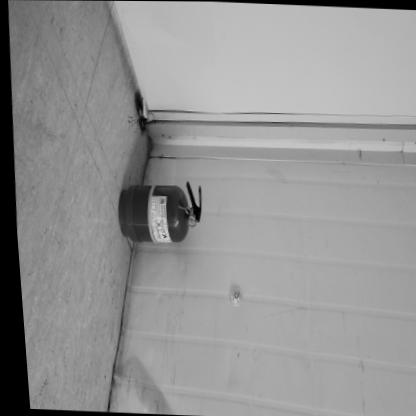FE: (112, 180, 202, 245)
